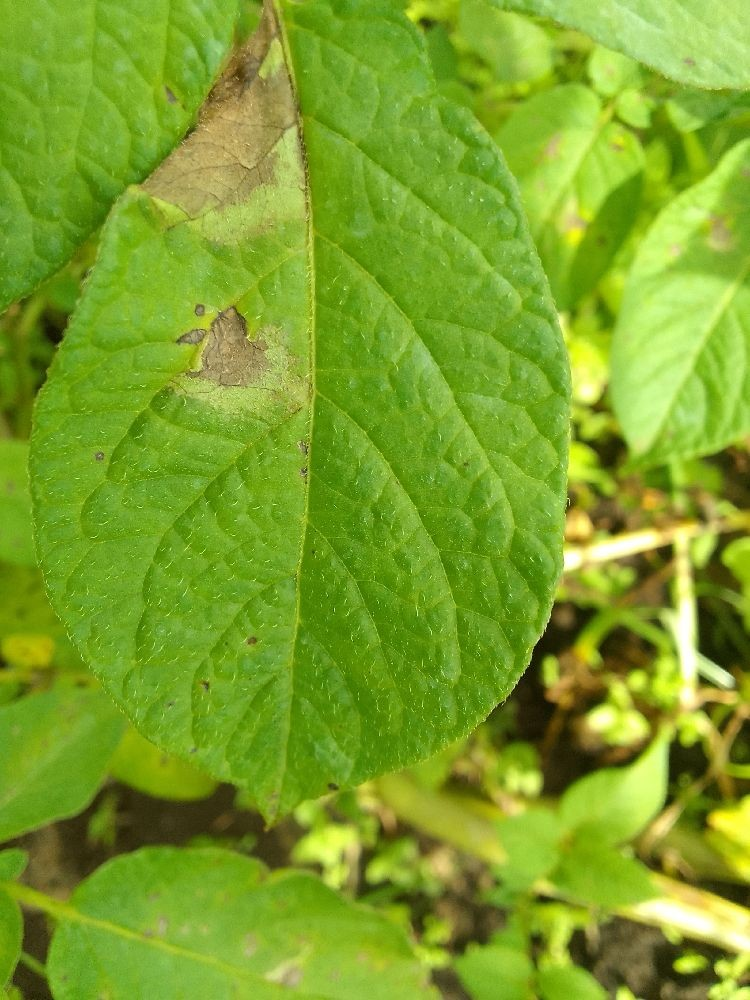late_blight: (434, 419, 749, 829), (0, 738, 346, 937), (117, 0, 326, 229), (547, 896, 750, 1000)
